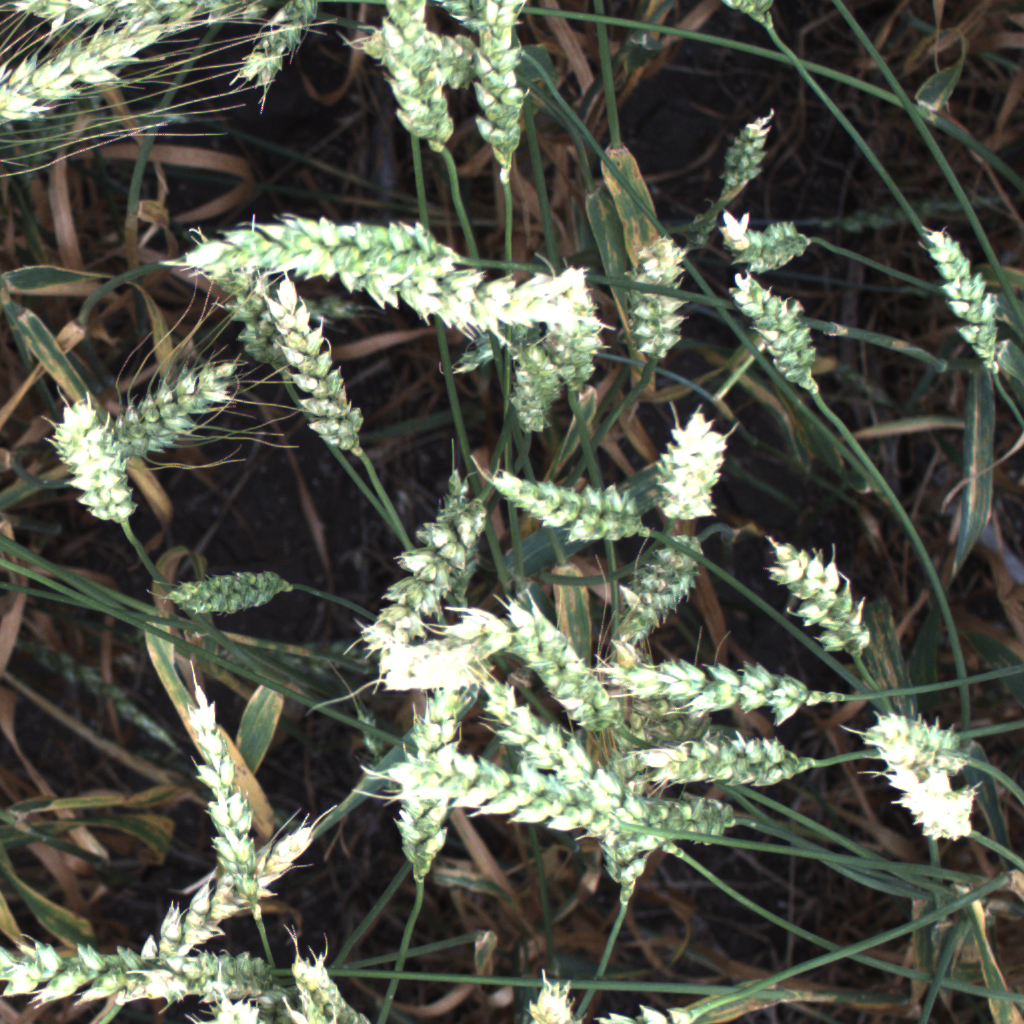wheat_head: (474, 670, 685, 863), (135, 811, 327, 979), (170, 660, 282, 922), (477, 580, 633, 742), (0, 8, 200, 133), (163, 208, 474, 285), (379, 751, 626, 845), (74, 350, 258, 470), (354, 488, 481, 656), (266, 284, 380, 464), (360, 252, 591, 335), (760, 513, 883, 664), (40, 384, 153, 537), (604, 652, 831, 727), (451, 0, 547, 173), (383, 693, 464, 888), (486, 455, 659, 543), (923, 217, 1010, 386), (729, 262, 828, 409), (383, 0, 463, 168), (342, 16, 498, 97), (629, 736, 818, 799), (0, 935, 169, 1005), (104, 947, 291, 1009), (619, 231, 700, 367), (617, 535, 716, 642), (879, 758, 986, 852), (857, 701, 978, 784), (151, 559, 295, 628), (658, 398, 732, 530), (213, 273, 299, 380), (542, 281, 616, 404), (715, 210, 844, 278), (233, 0, 318, 103), (280, 935, 375, 1024), (485, 333, 564, 440), (359, 641, 488, 698), (708, 100, 779, 200), (618, 792, 758, 841), (425, 596, 523, 664), (590, 818, 660, 898), (515, 963, 586, 1024), (0, 0, 146, 28), (586, 999, 706, 1024), (710, 0, 786, 36), (201, 994, 270, 1024)
